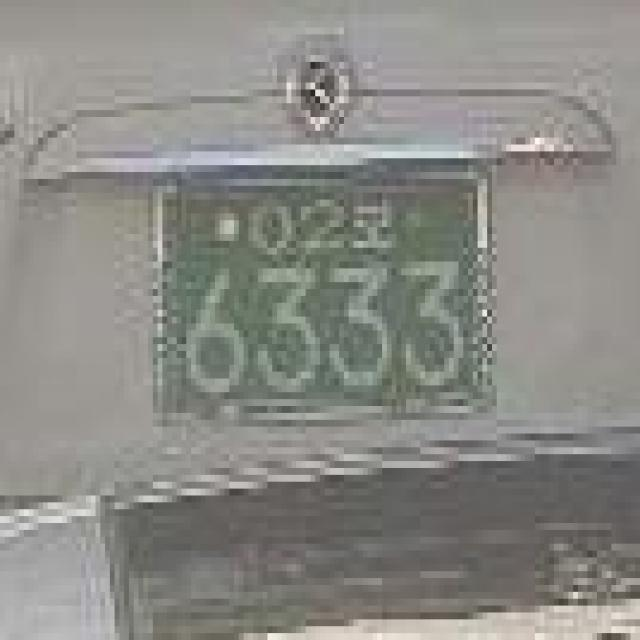illegal_plate: (140, 153, 506, 457)
